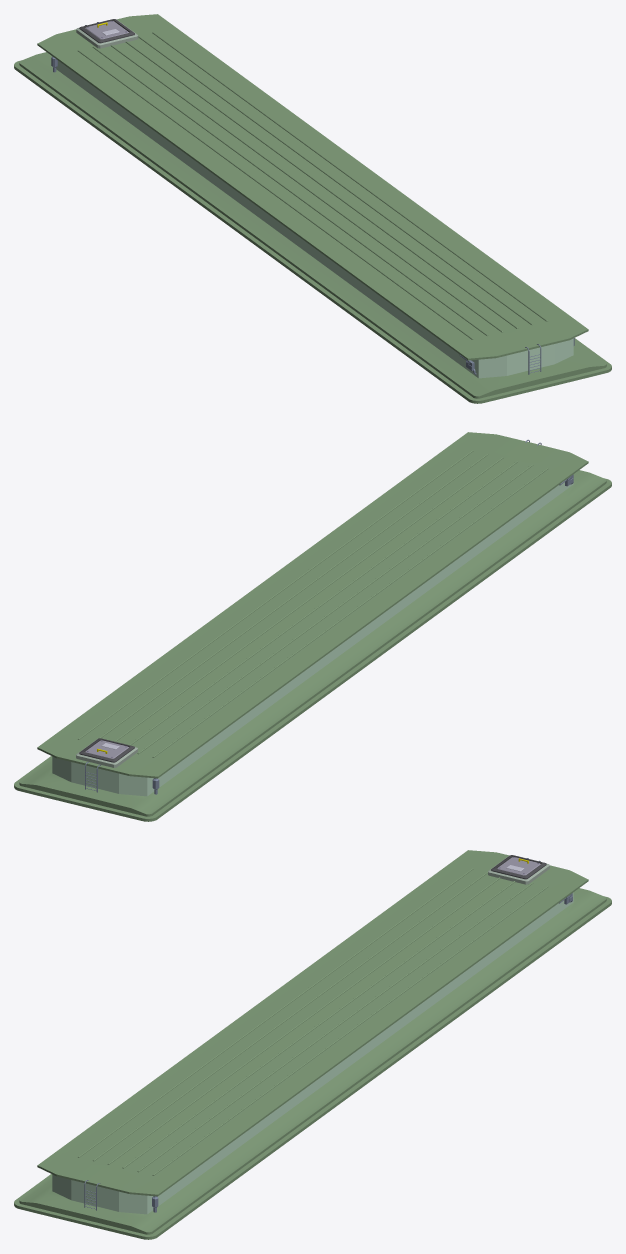
File: Roof_Tall.fbx
3 renders of one model, top to bottom at view 1: azimuth 30°, elevation 25°; view 2: azimuth 150°, elevation 25°; view 3: azimuth 330°, elevation 25°, orthographic.
Visible parts, largest first — view 1: polySurface1326; view 2: polySurface1326; view 3: polySurface1326.
Boxes of the visible parts, bbox=[...] form: polySurface1326: bbox=[14, 14, 611, 403]; polySurface1326: bbox=[14, 432, 611, 821]; polySurface1326: bbox=[14, 850, 611, 1239].
Bounding box in the file's own units: 9.79 × 2.68 × 55.45.
